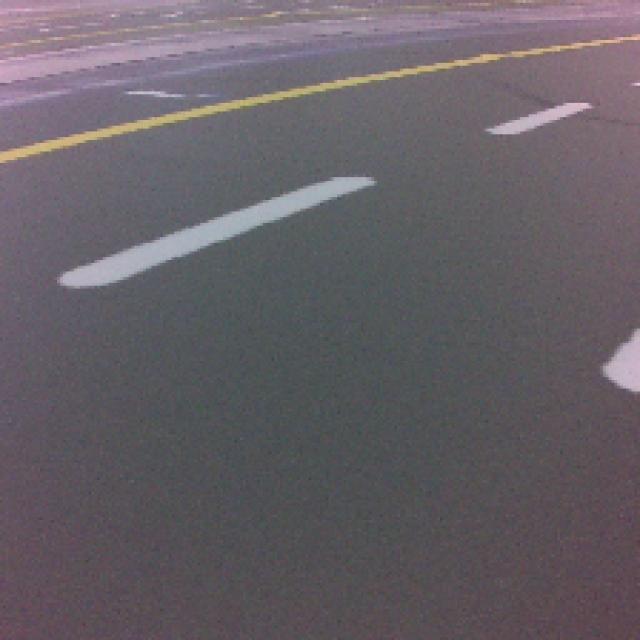Road: (0, 268, 602, 637)
